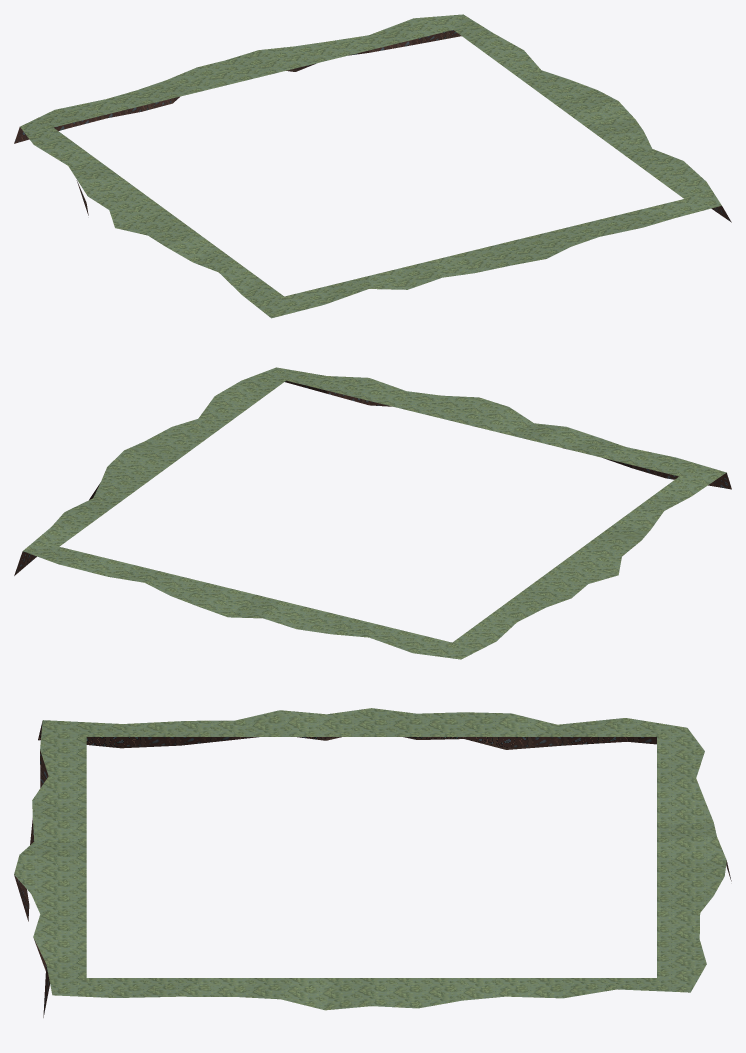
The model's file is entorno_16.fbx.
The picture shows the model from 3 angles, top to bottom: view 1: azimuth 30°, elevation 25°; view 2: azimuth 150°, elevation 25°; view 3: azimuth 270°, elevation 25°; orthographic projection. The views are drawn at different scales.
Visible parts, largest first — view 1: bosque_entorno_16; view 2: bosque_entorno_16; view 3: bosque_entorno_16.
Boxes of the visible parts, box(x1,y1,x2,y2) form: bosque_entorno_16: box(14, 14, 731, 318); bosque_entorno_16: box(14, 367, 731, 659); bosque_entorno_16: box(14, 708, 731, 1017).
Size of the model in its own units: 2059 by 107 by 2039.
2 materials, 2 textured.
